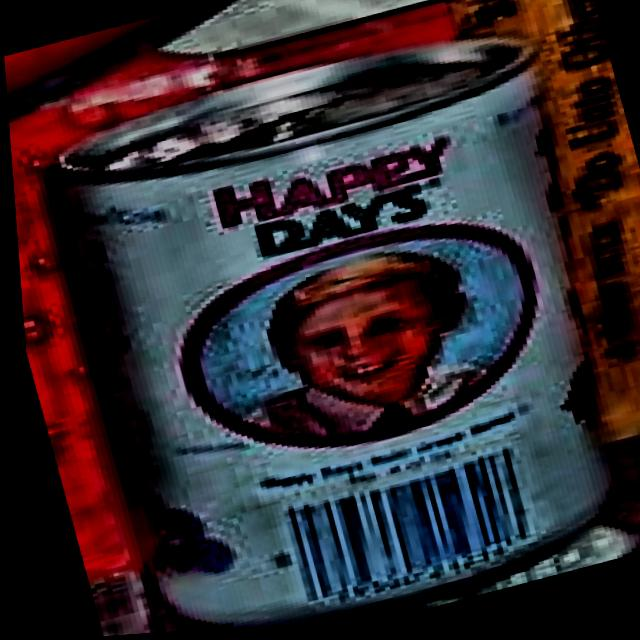Cans: (1, 0, 640, 640)
